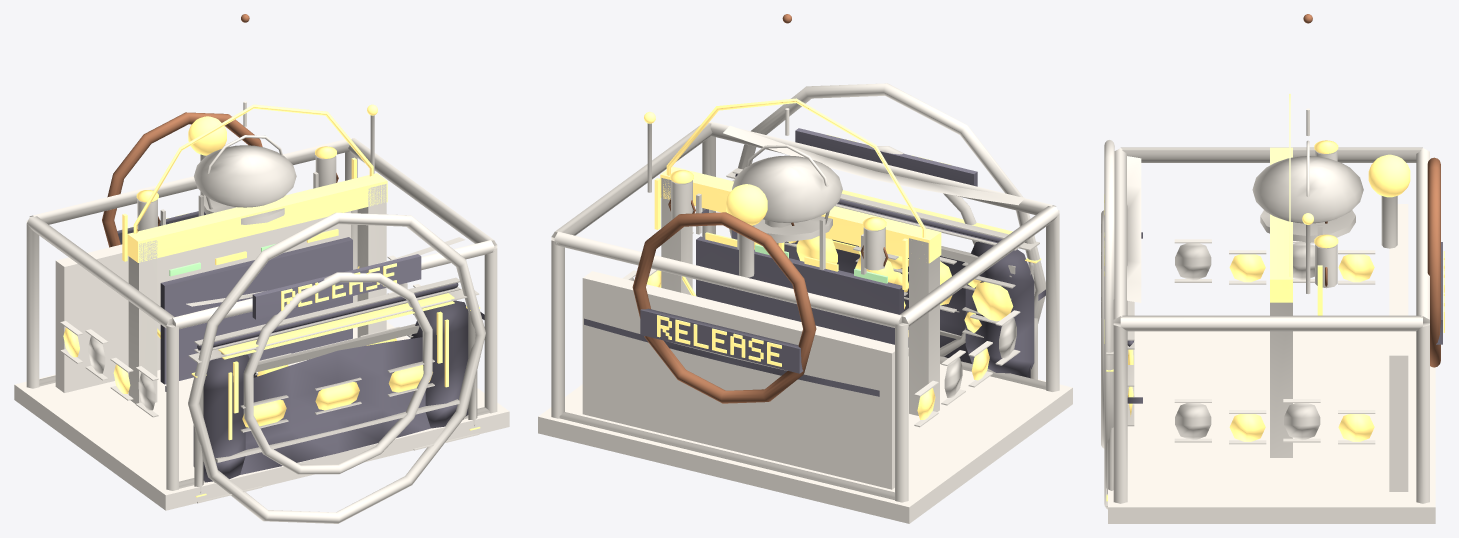
The model's file is release-gatehouse.glb.
The picture shows the model from 3 angles, left to right: view 1: azimuth 30°, elevation 25°; view 2: azimuth 150°, elevation 25°; view 3: azimuth 270°, elevation 25°; orthographic projection. The views are drawn at different scales.
Parts seen in each view (by area): view 1: release-gatehouse:near:surface:0, release-gatehouse:near:surface:1, release-gatehouse:far:surface:0, release-gatehouse:near:surface:2, release-gatehouse:city-identity:release-ring; view 2: release-gatehouse:far:surface:0, release-gatehouse:near:surface:0, release-gatehouse:near:surface:1, release-gatehouse:near:surface:2, release-gatehouse:city-identity:release-ring; view 3: release-gatehouse:far:surface:0, release-gatehouse:near:surface:0, release-gatehouse:near:surface:2, release-gatehouse:city-identity:release-ring, release-gatehouse:near:surface:1.
Boxes of the visible parts, x1,y1,x2,y2 form: release-gatehouse:near:surface:0: (26, 101, 497, 523); release-gatehouse:near:surface:1: (109, 211, 484, 482); release-gatehouse:far:surface:0: (14, 211, 509, 510); release-gatehouse:near:surface:2: (63, 104, 480, 497); release-gatehouse:city-identity:release-ring: (102, 112, 262, 247); release-gatehouse:far:surface:0: (538, 271, 1072, 523); release-gatehouse:near:surface:0: (551, 83, 1059, 502); release-gatehouse:near:surface:1: (584, 128, 1045, 396); release-gatehouse:near:surface:2: (644, 98, 1041, 419); release-gatehouse:city-identity:release-ring: (632, 212, 816, 403); release-gatehouse:far:surface:0: (1108, 204, 1435, 523); release-gatehouse:near:surface:0: (1101, 108, 1429, 509); release-gatehouse:near:surface:2: (1104, 94, 1444, 501); release-gatehouse:city-identity:release-ring: (1427, 157, 1440, 367); release-gatehouse:near:surface:1: (1127, 232, 1442, 403).
Size of the model in its own units: 13.5 by 16.6 by 10.8.
